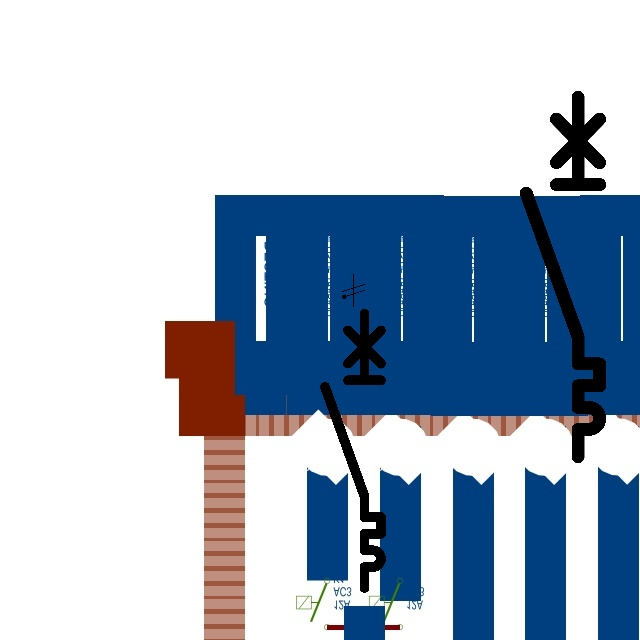interruptor_termomagnetico: (517, 88, 609, 466), (318, 306, 388, 594)
